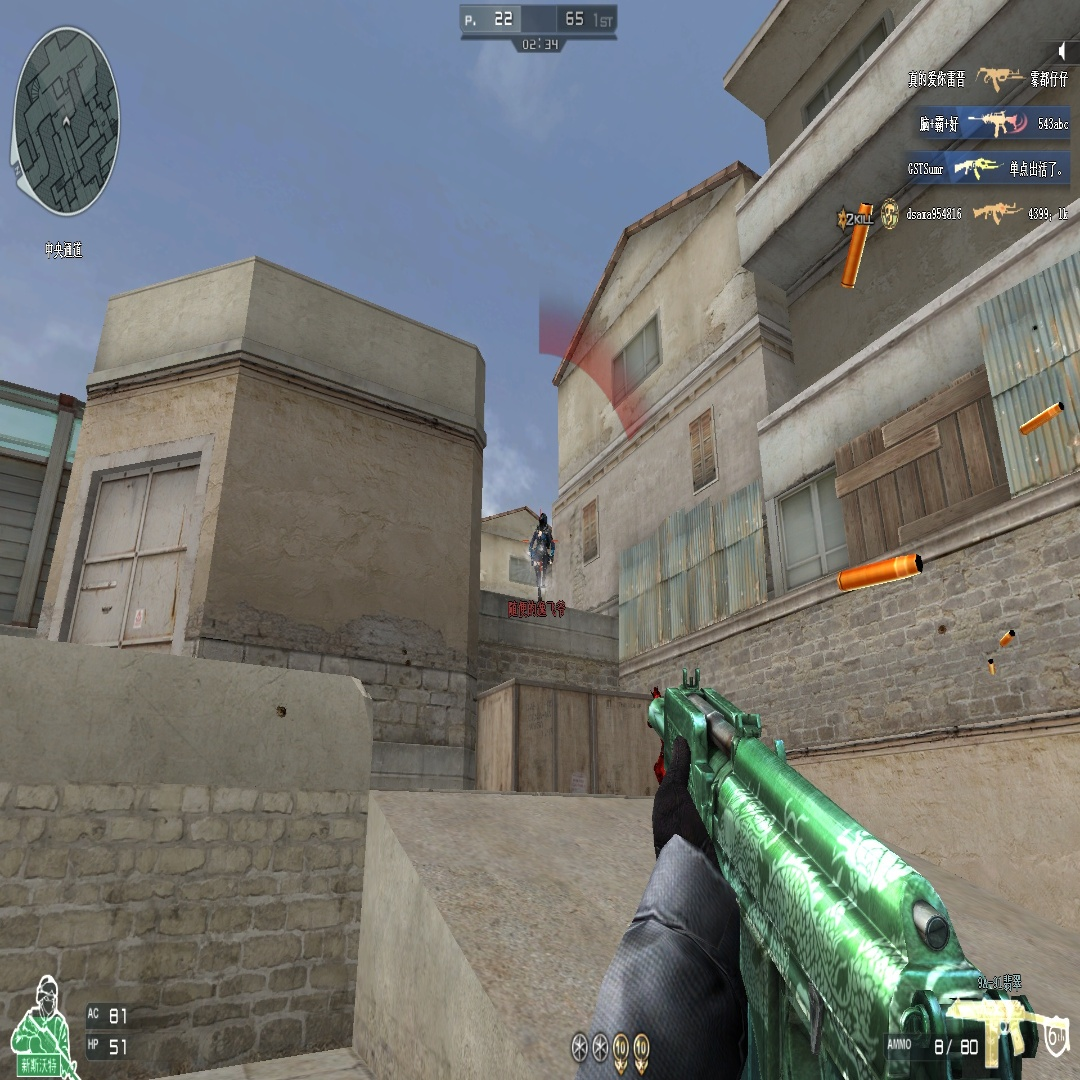p: (528, 512, 556, 596)
